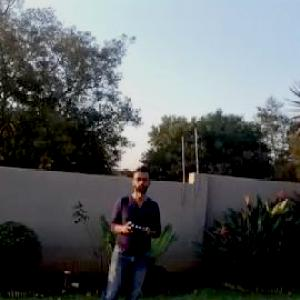follow: (92, 159, 168, 299)
